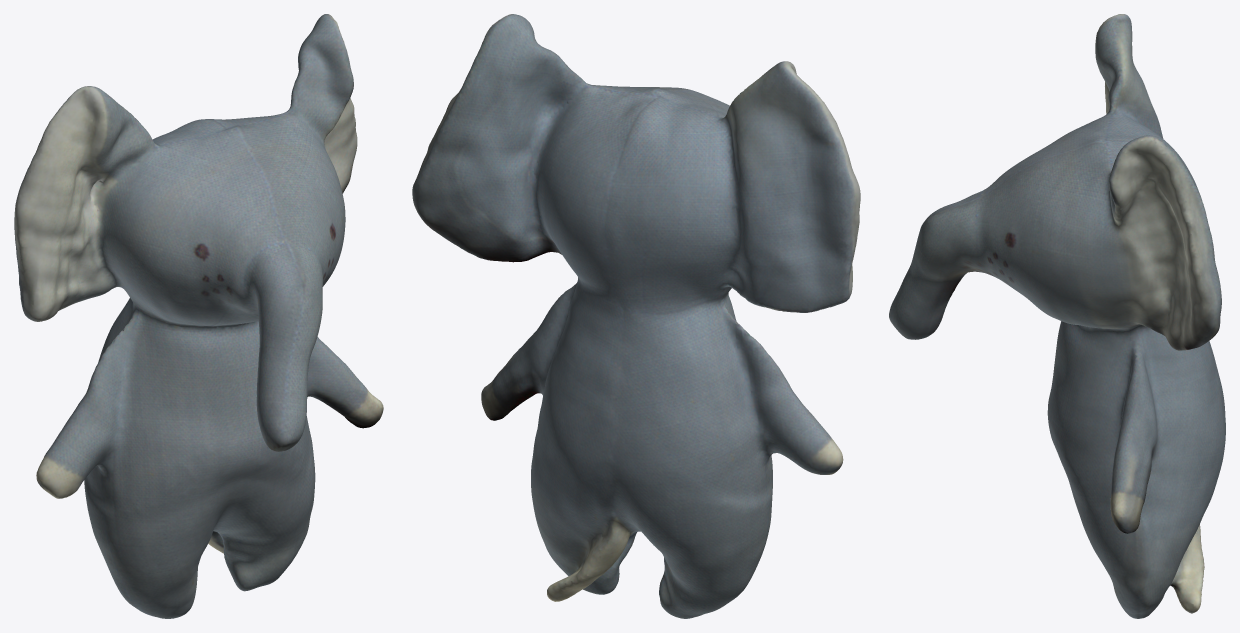
File: elephant_stuffed_toy.glb
3 renders of one model, left to right at view 1: azimuth 30°, elevation 25°; view 2: azimuth 150°, elevation 25°; view 3: azimuth 270°, elevation 25°, orthographic. The views are drawn at different scales.
Visible parts, largest first — view 1: Object_2; view 2: Object_2; view 3: Object_2.
Boxes of the visible parts, x1,y1,x2,y2 form: Object_2: (14, 14, 383, 618); Object_2: (412, 14, 860, 618); Object_2: (889, 14, 1225, 618).
Size of the model in its own units: 128 by 176 by 102.
Materials: 1 (1 with a texture image).
